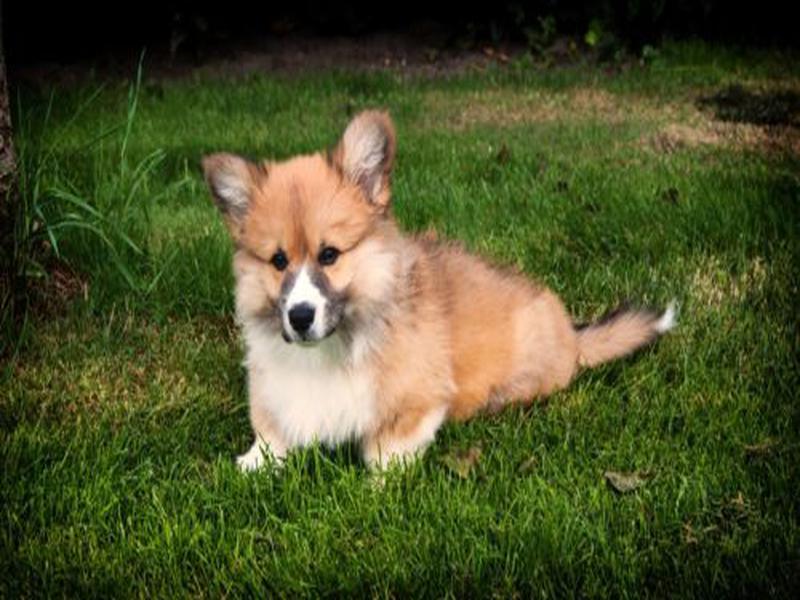corgi: (200, 104, 412, 349)
